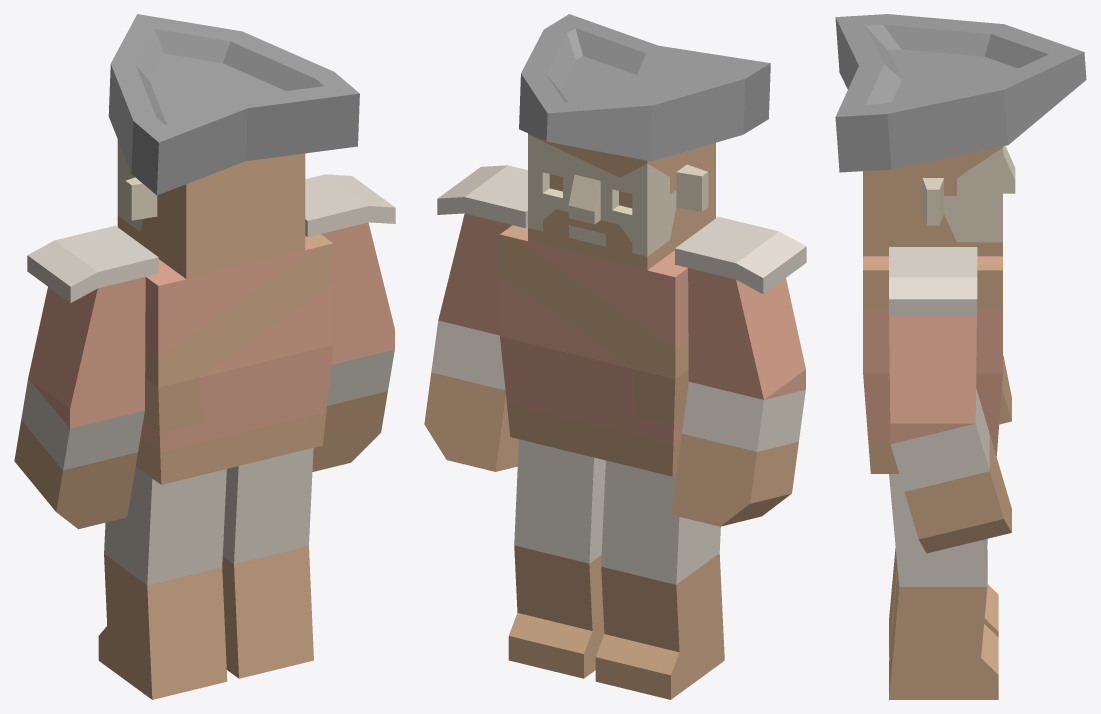
File: pirate_captain.glb
The picture shows the model from 3 angles, left to right: view 1: azimuth 30°, elevation 25°; view 2: azimuth 150°, elevation 25°; view 3: azimuth 270°, elevation 25°; orthographic projection.
Parts seen in each view (by area): view 1: Group 122 (×2), body, armLeft, legLeft, legRight, armRight; view 2: Group 122 (×2), body, armLeft, legLeft, armRight, legRight; view 3: Group 122 (×2), armRight, legRight, body, legLeft, armLeft.
Part boxes in pixels (x1,y1,x2,y2): Group 122 (×2): (108, 14, 359, 278); body: (136, 234, 333, 484); armLeft: (14, 225, 158, 529); legLeft: (98, 466, 227, 699); legRight: (222, 448, 313, 678); armRight: (305, 174, 395, 471); Group 122 (×2): (519, 14, 770, 270); body: (500, 225, 688, 476); armLeft: (671, 216, 806, 526); legLeft: (595, 460, 724, 699); armRight: (424, 165, 527, 471); legRight: (508, 439, 605, 678); Group 122 (×2): (835, 14, 1086, 256); armRight: (889, 247, 1011, 553); legRight: (889, 474, 998, 699); body: (863, 256, 1002, 473); legLeft: (889, 539, 998, 656); armLeft: (999, 355, 1011, 424).
Size of the model in its own units: 0.6239 by 1.09 by 0.4096.
